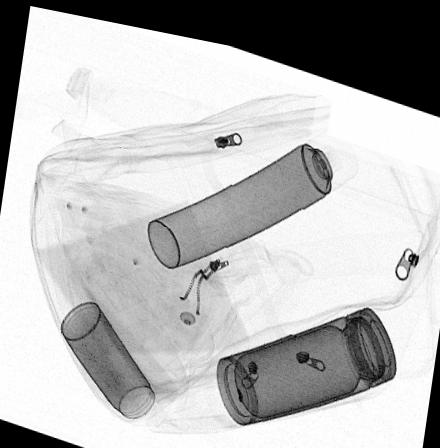Sprayer: (146, 109, 360, 262)
